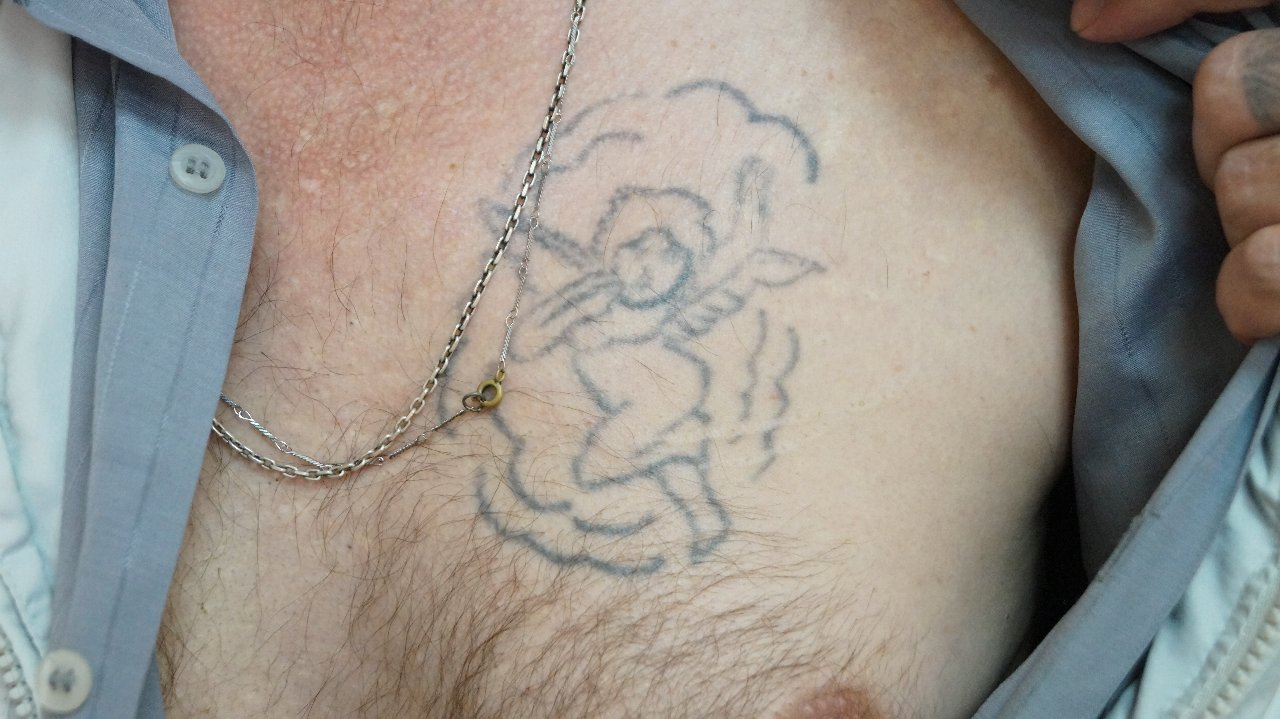tatu1_angel: (420, 75, 844, 588)
